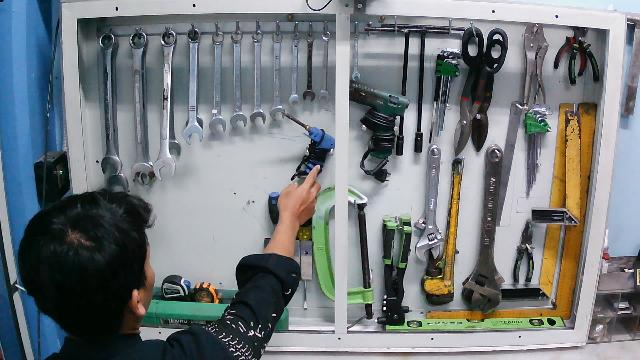solder_electrical: (279, 109, 335, 182)
